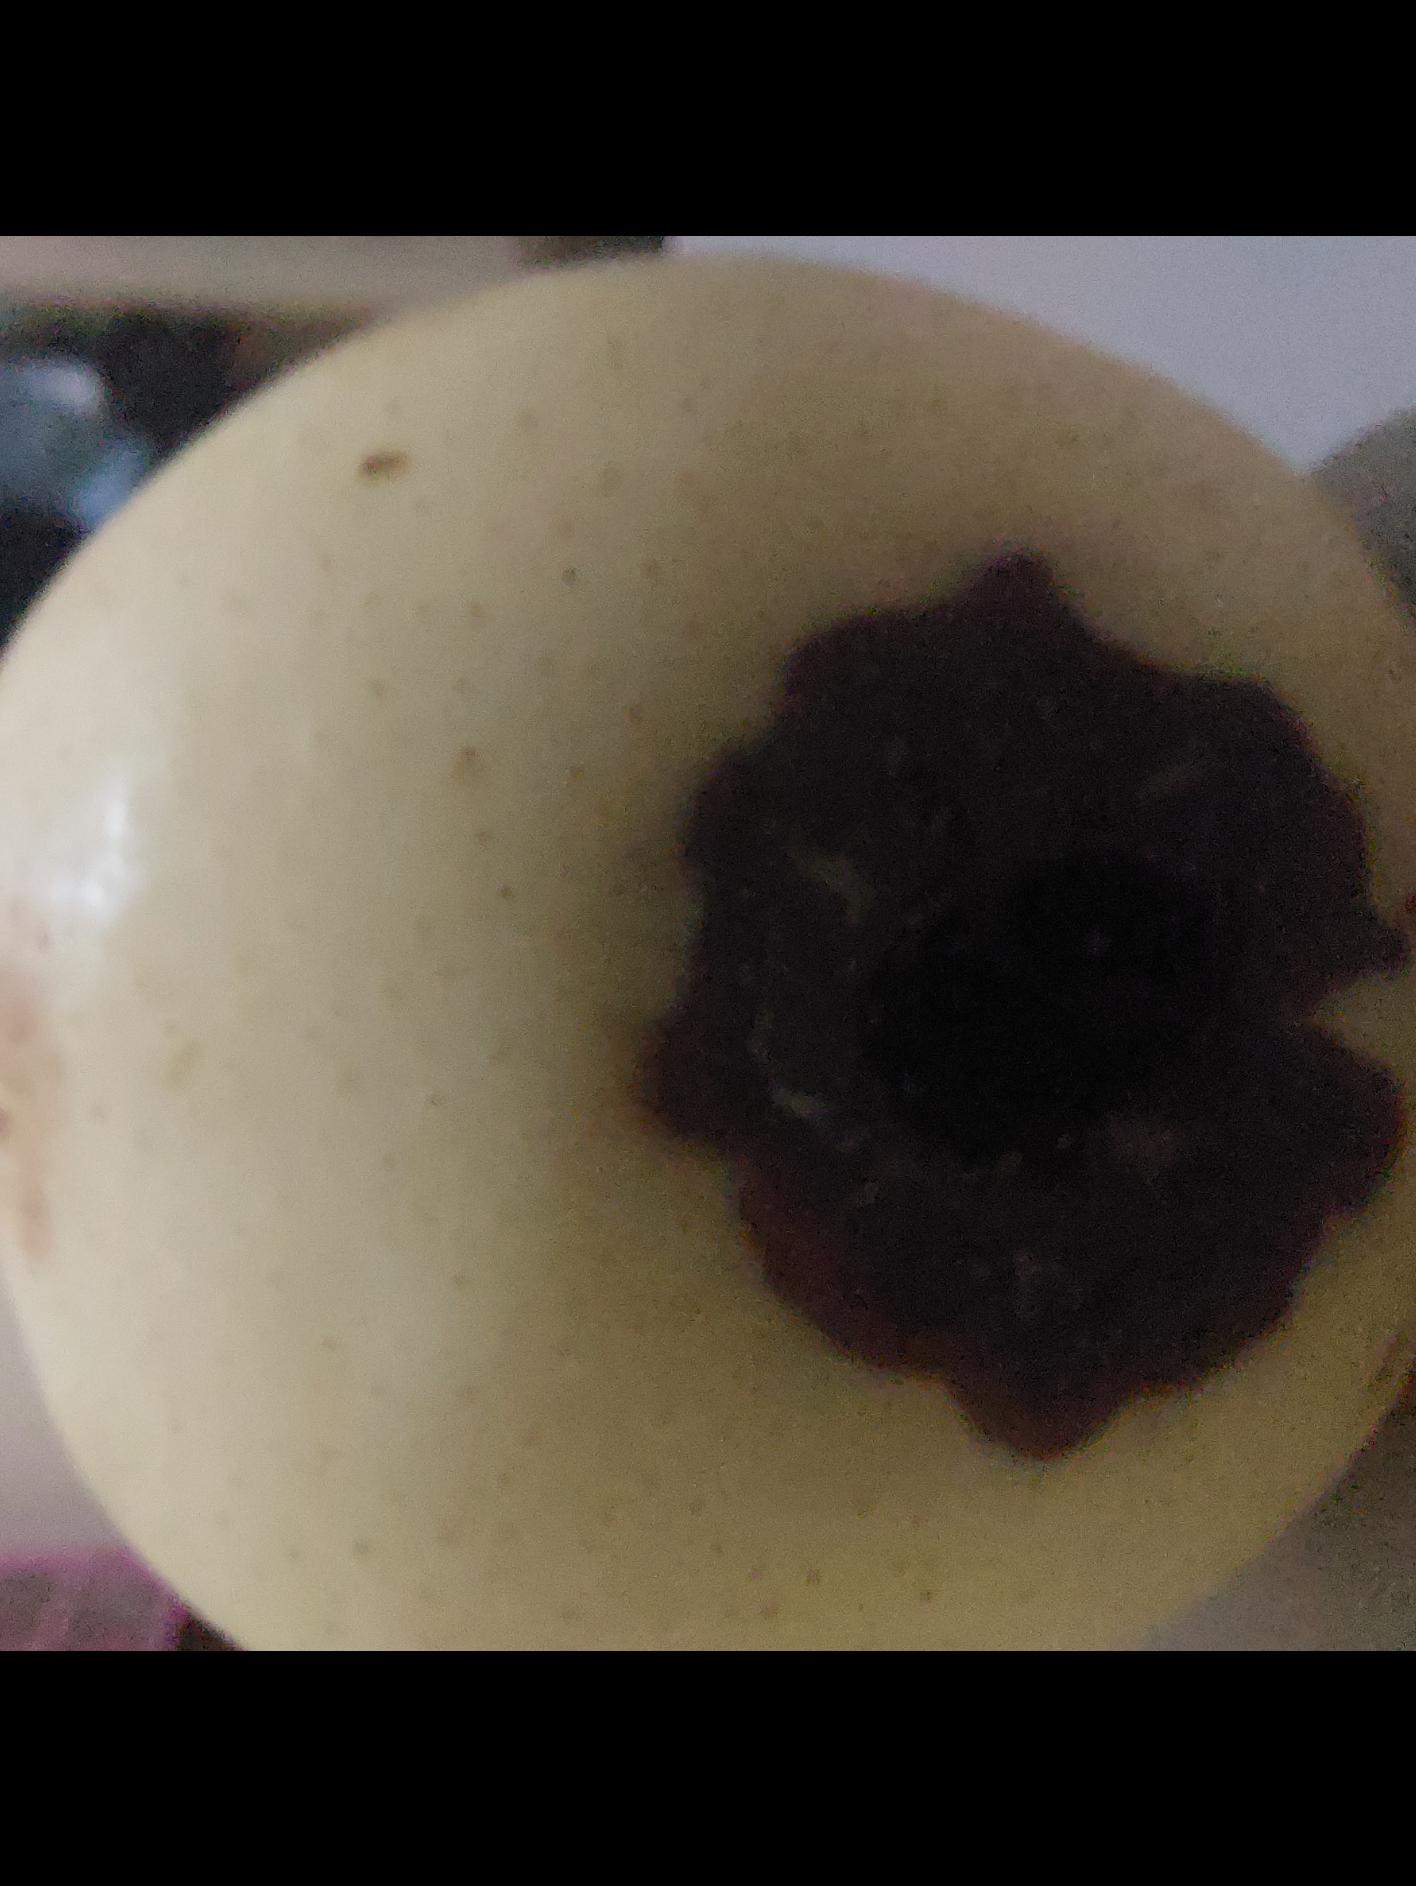Bad Pear: (0, 251, 1416, 1651)
